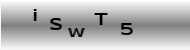5: (119, 21, 133, 36)
S: (49, 17, 62, 31)
T: (94, 12, 108, 26)
i: (32, 8, 37, 23)
w: (67, 27, 85, 38)
